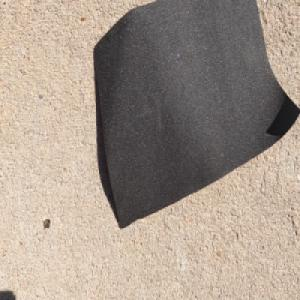PaintChip: (92, 0, 300, 232)
